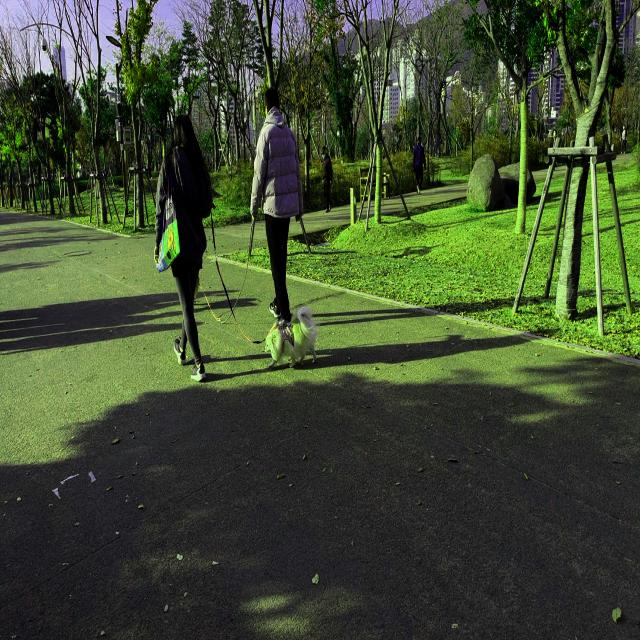Leashed_Dog: (191, 192, 318, 372)
